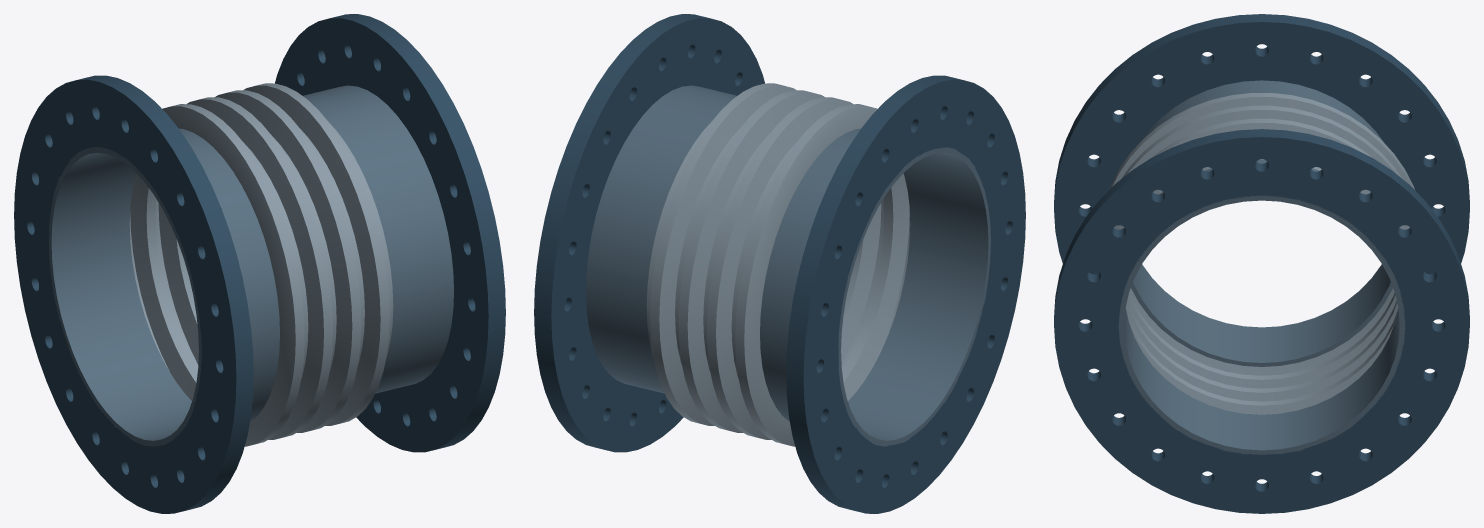
The model's file is flan-dn600-L695-D685-f-o840.glb.
3 views of the same model, side by side, from view 1: azimuth 30°, elevation 25°; view 2: azimuth 150°, elevation 25°; view 3: azimuth 270°, elevation 25° (orthographic). The views are drawn at different scales.
Parts seen in each view (by area): view 1: prokladka_silfon_1, homut_flanec_1, homut_flanec_2, patrubok_1, patrubok_2; view 2: prokladka_silfon_1, homut_flanec_1, homut_flanec_2, patrubok_1, patrubok_2; view 3: homut_flanec_2, homut_flanec_1, prokladka_silfon_1, patrubok_2, patrubok_1.
Boxes of the visible parts, x1,y1,x2,y2 form: prokladka_silfon_1: (129, 83, 393, 446); homut_flanec_1: (14, 75, 253, 513); homut_flanec_2: (275, 14, 505, 452); patrubok_1: (48, 128, 279, 446); patrubok_2: (302, 85, 453, 393); prokladka_silfon_1: (646, 83, 910, 446); homut_flanec_1: (786, 75, 1025, 513); homut_flanec_2: (534, 14, 764, 452); patrubok_1: (760, 128, 990, 446); patrubok_2: (586, 85, 737, 393); homut_flanec_2: (1054, 129, 1469, 513); homut_flanec_1: (1054, 14, 1469, 274); prokladka_silfon_1: (1109, 93, 1414, 414); patrubok_2: (1118, 160, 1405, 454); patrubok_1: (1131, 80, 1392, 366).
Bounding box in the file's own units: 695 × 993 × 993.
